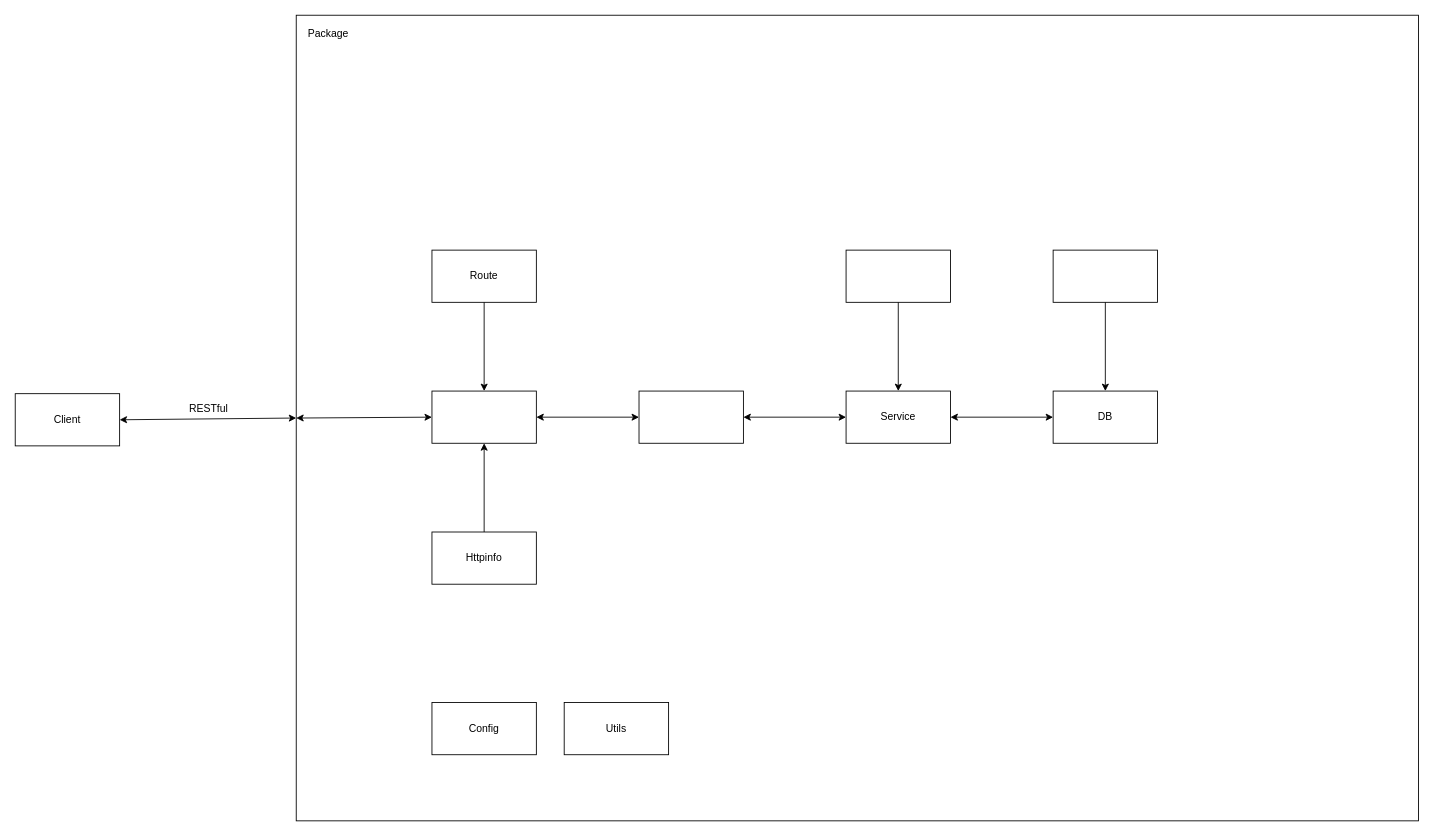
Image size: 1434x836. Some labels were removed from this diagram. The shapes that lost their labels are listed below. From the top down, each one's centre as x and y in pixels, then its label:
point (897, 275): Model
point (1105, 275): Repository
point (483, 416): Handler
point (690, 416): Middleware
